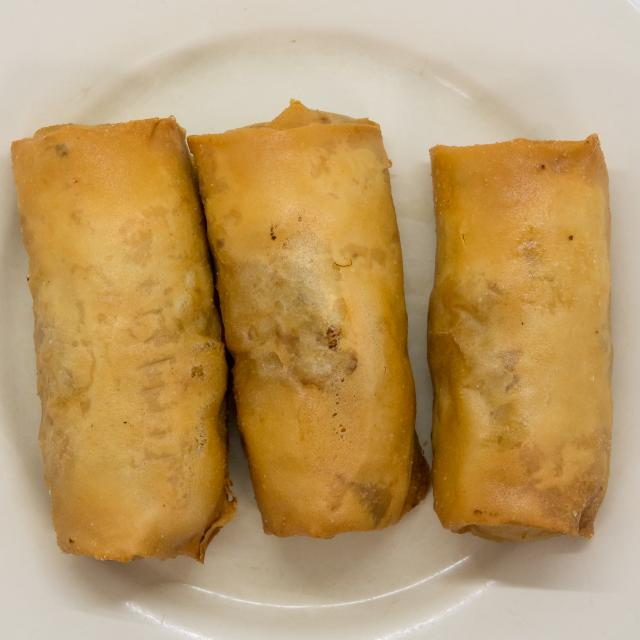Lumpia-Semarang: (6, 89, 631, 577)
